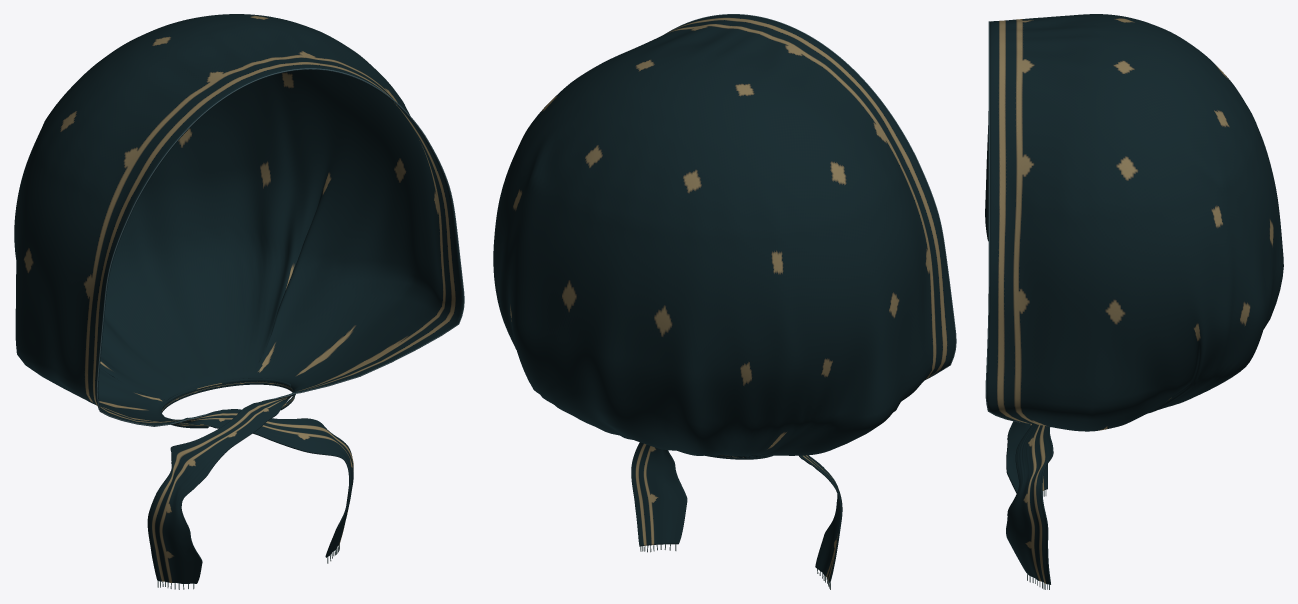
The model's file is Feminine-strappy-pashmina247-headgear.glb.
3 views of the same model, side by side, from view 1: azimuth 30°, elevation 25°; view 2: azimuth 150°, elevation 25°; view 3: azimuth 270°, elevation 25° (orthographic). The views are drawn at different scales.
Parts seen in each view (by area): view 1: 226 headgear / Headwear / continuous woven pashmina239, 226 headgear / Headwear / face edge239; view 2: 226 headgear / Headwear / continuous woven pashmina239, 226 headgear / Headwear / face edge239; view 3: 226 headgear / Headwear / continuous woven pashmina239, 226 headgear / Headwear / face edge239.
Boxes of the visible parts, left/top/right/bottom form: 226 headgear / Headwear / continuous woven pashmina239: left=14, top=14, right=463, bottom=583; 226 headgear / Headwear / face edge239: left=96, top=68, right=464, bottom=426; 226 headgear / Headwear / continuous woven pashmina239: left=493, top=14, right=955, bottom=583; 226 headgear / Headwear / face edge239: left=664, top=14, right=956, bottom=379; 226 headgear / Headwear / continuous woven pashmina239: left=985, top=14, right=1283, bottom=584; 226 headgear / Headwear / face edge239: left=985, top=21, right=1028, bottom=423.
Size of the model in its own units: 1.02 by 1.35 by 0.7116.
3 materials, 1 textured.
